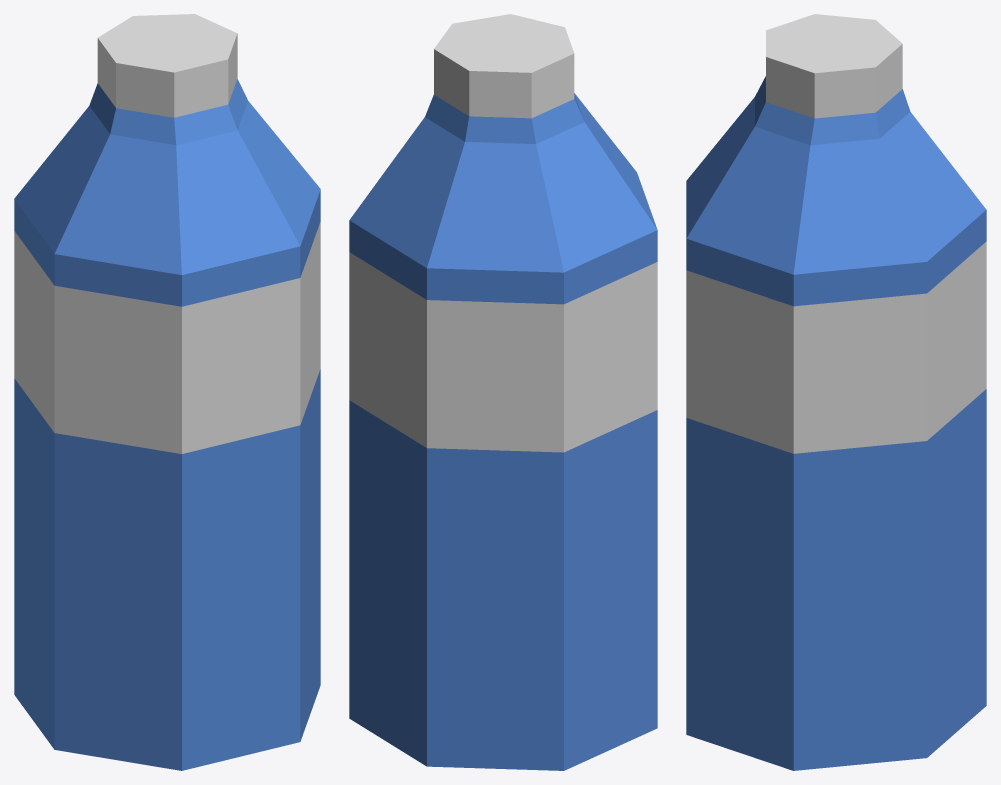
File: WaterBottle.fbx
The picture shows the model from 3 angles, left to right: view 1: azimuth 30°, elevation 25°; view 2: azimuth 150°, elevation 25°; view 3: azimuth 270°, elevation 25°; orthographic projection.
Parts seen in each view (by area): view 1: Bottle; view 2: Bottle; view 3: Bottle.
Boxes of the visible parts, x1=… form: Bottle: x1=14, y1=14, x2=320, y2=770; Bottle: x1=349, y1=14, x2=657, y2=770; Bottle: x1=686, y1=14, x2=986, y2=770.
Bounding box in the file's own units: 30.7 × 72.88 × 29.93.
